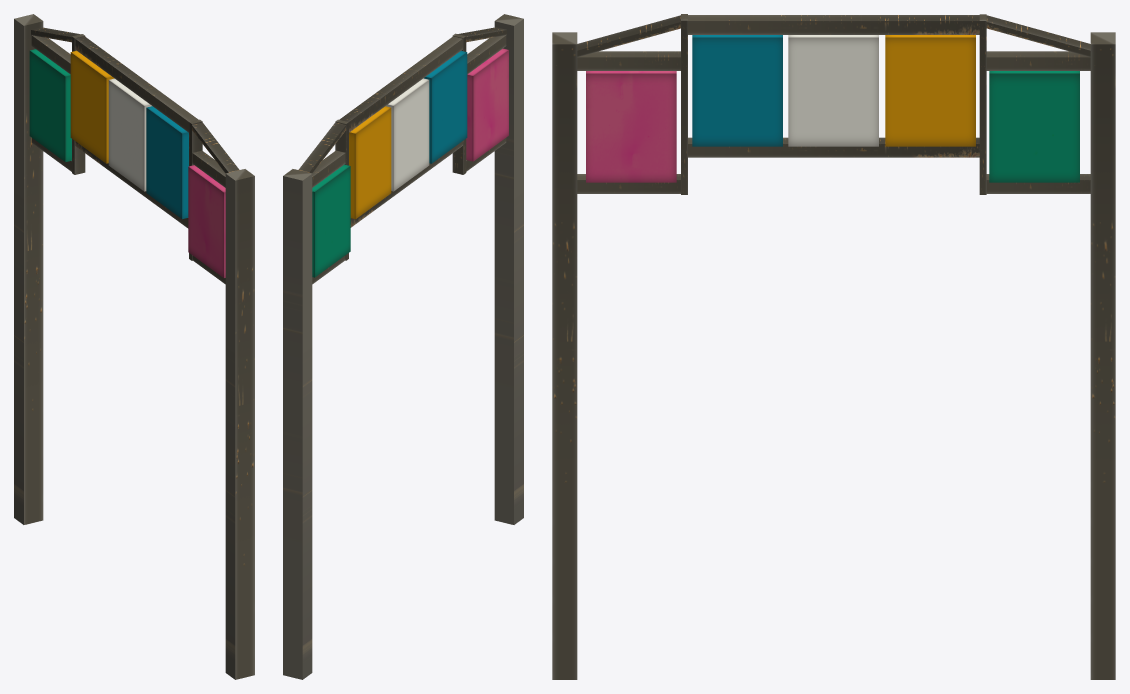
File: raincover06a.fbx
The picture shows the model from 3 angles, left to right: view 1: azimuth 30°, elevation 25°; view 2: azimuth 150°, elevation 25°; view 3: azimuth 270°, elevation 25°; orthographic projection. The views are drawn at different scales.
Parts seen in each view (by area): view 1: raincover06a; view 2: raincover06a; view 3: raincover06a.
Boxes of the visible parts, x1,y1,x2,y2 form: raincover06a: (14,14,254,679); raincover06a: (283,14,523,679); raincover06a: (552,14,1115,679).
Bounding box in the file's own units: 32.85 × 753 × 584.
